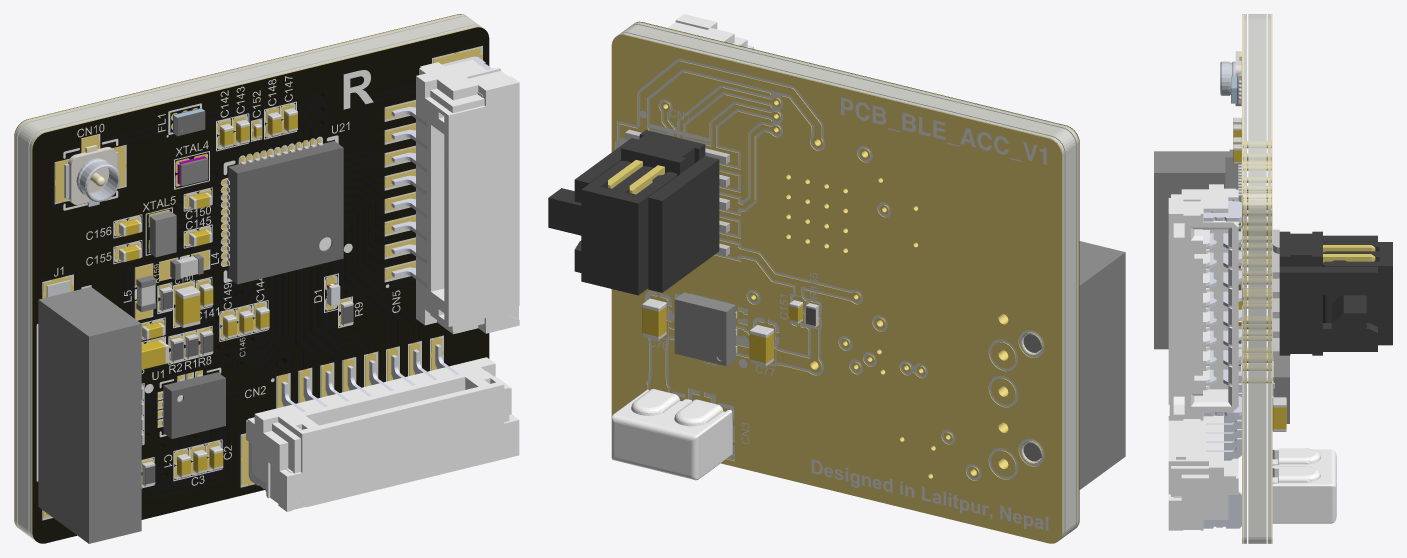
The model's file is BLE_ACC.glb.
The picture shows the model from 3 angles, left to right: view 1: azimuth 30°, elevation 25°; view 2: azimuth 150°, elevation 25°; view 3: azimuth 270°, elevation 25°; orthographic projection. The views are drawn at different scales.
Visible parts, largest first — view 1: Solder_Top, ComponentBody.59, ComponentBody.50, ComponentBody.9, ComponentBody.57, Core.1, Core, Top, GND, ComponentBody.28, Core.2, ComponentBody.51 (+12 smaller); view 2: GND, Core.2, ComponentBody.101, ComponentBody.9, Core.1, ComponentBody.104, ComponentBody.105, Bottom, VDD1, ComponentBody.106, Core, ComponentBody.59 (+7 smaller); view 3: ComponentBody.59, Core.1, ComponentBody.101, ComponentBody.50, ComponentBody.9, ComponentBody.105, ComponentBody.104, ComponentBody.60, Core.2, Core, GND, ComponentBody.51 (+8 smaller).
Part boxes in pixels (left/top/right/bottom): Solder_Top: left=32, top=27, right=489, bottom=543; ComponentBody.59: left=416, top=59, right=519, bottom=334; ComponentBody.50: left=246, top=357, right=519, bottom=511; ComponentBody.9: left=38, top=287, right=141, bottom=543; ComponentBody.57: left=228, top=141, right=343, bottom=284; Core.1: left=18, top=16, right=479, bottom=538; Core: left=29, top=25, right=482, bottom=540; Top: left=36, top=70, right=400, bottom=488; GND: left=14, top=14, right=483, bottom=539; ComponentBody.28: left=163, top=372, right=225, bottom=438; Core.2: left=15, top=14, right=468, bottom=530; ComponentBody.51: left=248, top=344, right=459, bottom=491; GND: left=611, top=22, right=1079, bottom=543; Core.2: left=615, top=32, right=1064, bottom=540; ComponentBody.101: left=574, top=130, right=719, bottom=292; ComponentBody.9: left=1079, top=241, right=1125, bottom=489; Core.1: left=620, top=24, right=1075, bottom=538; ComponentBody.104: left=548, top=160, right=676, bottom=295; ComponentBody.105: left=611, top=389, right=732, bottom=480; Bottom: left=639, top=97, right=1048, bottom=530; VDD1: left=637, top=61, right=1015, bottom=477; ComponentBody.106: left=674, top=292, right=735, bottom=366; Core: left=631, top=22, right=1078, bottom=530; ComponentBody.59: left=666, top=14, right=753, bottom=49; ComponentBody.59: left=1168, top=184, right=1238, bottom=420; Core.1: left=1248, top=14, right=1266, bottom=543; ComponentBody.101: left=1279, top=231, right=1377, bottom=355; ComponentBody.50: left=1168, top=415, right=1238, bottom=530; ComponentBody.9: left=1154, top=151, right=1229, bottom=349; ComponentBody.105: left=1272, top=448, right=1336, bottom=523; ComponentBody.104: left=1323, top=242, right=1392, bottom=345; ComponentBody.60: left=1203, top=201, right=1241, bottom=416; Core.2: left=1267, top=14, right=1271, bottom=543; Core: left=1243, top=14, right=1246, bottom=543; GND: left=1242, top=14, right=1272, bottom=543; ComponentBody.51: left=1203, top=374, right=1241, bottom=528.
Size of the model in its own units: 2.66 by 2.24 by 1.39.
